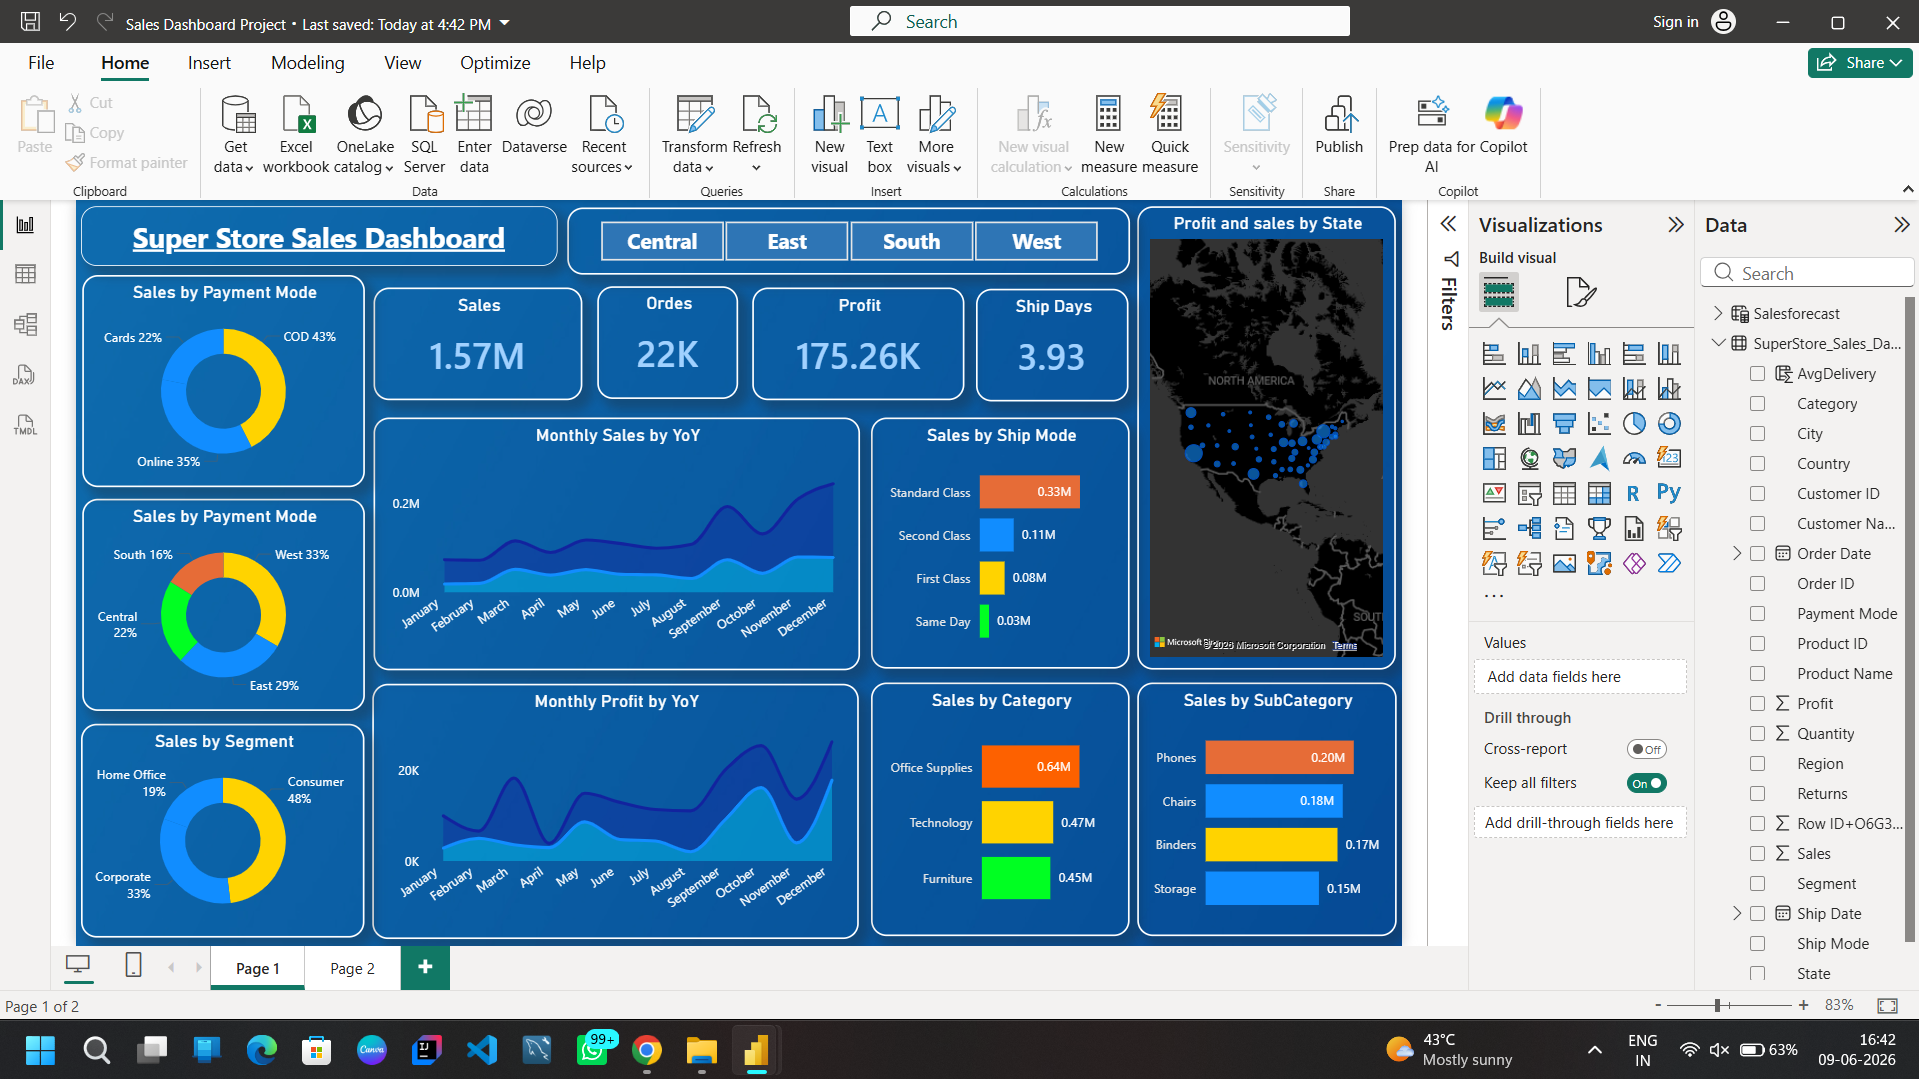

What the dashboard file says about the page in this screenshot:
{"tool":"powerbi","page":{"name":"Page 1","canvas":[1280,720],"ordinal":0},"visuals":[{"type":"clusteredBarChart","title":"Sales by Category","fields":{"Category":["SuperStore_Sales_Dataset.Category"],"Y":["Sum(SuperStore_Sales_Dataset.Sales)"]},"box":[767.3,465.7,249.7,244.9],"z":0},{"type":"clusteredBarChart","title":"Sales by SubCategory","fields":{"Y":["Sum(SuperStore_Sales_Dataset.Sales)"],"Category":["SuperStore_Sales_Dataset.Sub-Category"]},"box":[1023.8,466.2,250,245],"z":1000},{"type":"clusteredBarChart","title":"Sales by Ship Mode","fields":{"Y":["Sum(SuperStore_Sales_Dataset.Sales)"],"Category":["SuperStore_Sales_Dataset.Ship Mode"]},"box":[767.3,209.9,249.7,242.5],"z":2000},{"type":"stackedAreaChart","title":"Monthly Sales by YoY","fields":{"Y":["Sum(SuperStore_Sales_Dataset.Sales)"],"Category":["SuperStore_Sales_Dataset.Order Date.Variation.Date Hierarchy.Month","SuperStore_Sales_Dataset.Order Date.Variation.Date Hierarchy.Day"],"Series":["SuperStore_Sales_Dataset.Order Date.Variation.Date Hierarchy.Year"]},"box":[287.1,209.9,469.3,243.7],"z":3000},{"type":"stackedAreaChart","title":"Monthly Profit by YoY","fields":{"Category":["SuperStore_Sales_Dataset.Order Date.Variation.Date Hierarchy.Month","SuperStore_Sales_Dataset.Order Date.Variation.Date Hierarchy.Day"],"Series":["SuperStore_Sales_Dataset.Order Date.Variation.Date Hierarchy.Year"],"Y":["Sum(SuperStore_Sales_Dataset.Profit)"]},"box":[285.9,466.9,469.3,246.1],"z":4000},{"type":"map","title":"Profit and sales by State","fields":{"Category":["SuperStore_Sales_Dataset.State"],"Size":["Sum(SuperStore_Sales_Dataset.Sales)"]},"box":[1024.3,6,255.8,447.6],"z":5000},{"type":"donutChart","title":"Sales by Segment","fields":{"Category":["SuperStore_Sales_Dataset.Segment"],"Y":["Sum(SuperStore_Sales_Dataset.Sales)"]},"box":[4.8,505.5,273.9,206.3],"z":6000},{"type":"donutChart","title":"Sales by Payment Mode","fields":{"Y":["Sum(SuperStore_Sales_Dataset.Sales)"],"Category":["SuperStore_Sales_Dataset.Region"]},"box":[6,288.3,272.7,205.1],"z":7000},{"type":"slicer","fields":{"Values":["SuperStore_Sales_Dataset.Region"]},"box":[474.1,7.2,542.9,65.1],"z":8000},{"type":"textbox","box":[4.8,6,459.7,57.9],"z":9000},{"type":"cardVisual","title":"Sales","fields":{"Data":["Sum(SuperStore_Sales_Dataset.Sales)"]},"box":[287.5,85,201.2,108.8],"z":10000},{"type":"cardVisual","title":"Ordes","fields":{"Data":["Sum(SuperStore_Sales_Dataset.Quantity)"]},"box":[502.5,83.8,136.2,108.8],"z":11000},{"type":"cardVisual","title":"Profit","fields":{"Data":["Sum(SuperStore_Sales_Dataset.Profit)"]},"box":[652.5,85,205,108.8],"z":12000},{"type":"cardVisual","title":"Ship Days","fields":{"Data":["Avg(SuperStore_Sales_Dataset.AvgDelivery)"]},"box":[868.8,86.2,147.5,108.8],"z":13000},{"type":"donutChart","title":"Sales by Payment Mode","fields":{"Y":["Sum(SuperStore_Sales_Dataset.Sales)"],"Category":["SuperStore_Sales_Dataset.Payment Mode"]},"box":[6,72.4,272.7,205.1],"z":14000}]}

Visuals, with their boxes on the page's 1280x720 design canvas (x1, y1, x2, y2). These are canvas units, not pixel positions in the 1919x1079 screenshot, which may show the page scaled, cropped or inside an application window:
"Sales by Category" clusteredBarChart: <region>767, 466, 1017, 711</region>
"Sales by SubCategory" clusteredBarChart: <region>1024, 466, 1274, 711</region>
"Sales by Ship Mode" clusteredBarChart: <region>767, 210, 1017, 452</region>
"Monthly Sales by YoY" stackedAreaChart: <region>287, 210, 756, 454</region>
"Monthly Profit by YoY" stackedAreaChart: <region>286, 467, 755, 713</region>
"Profit and sales by State" map: <region>1024, 6, 1280, 454</region>
"Sales by Segment" donutChart: <region>5, 506, 279, 712</region>
"Sales by Payment Mode" donutChart: <region>6, 288, 279, 493</region>
slicer - SuperStore_Sales_Dataset.Region: <region>474, 7, 1017, 72</region>
textbox: <region>5, 6, 464, 64</region>
"Sales" cardVisual: <region>288, 85, 489, 194</region>
"Ordes" cardVisual: <region>502, 84, 639, 193</region>
"Profit" cardVisual: <region>652, 85, 858, 194</region>
"Ship Days" cardVisual: <region>869, 86, 1016, 195</region>
"Sales by Payment Mode" donutChart: <region>6, 72, 279, 278</region>
